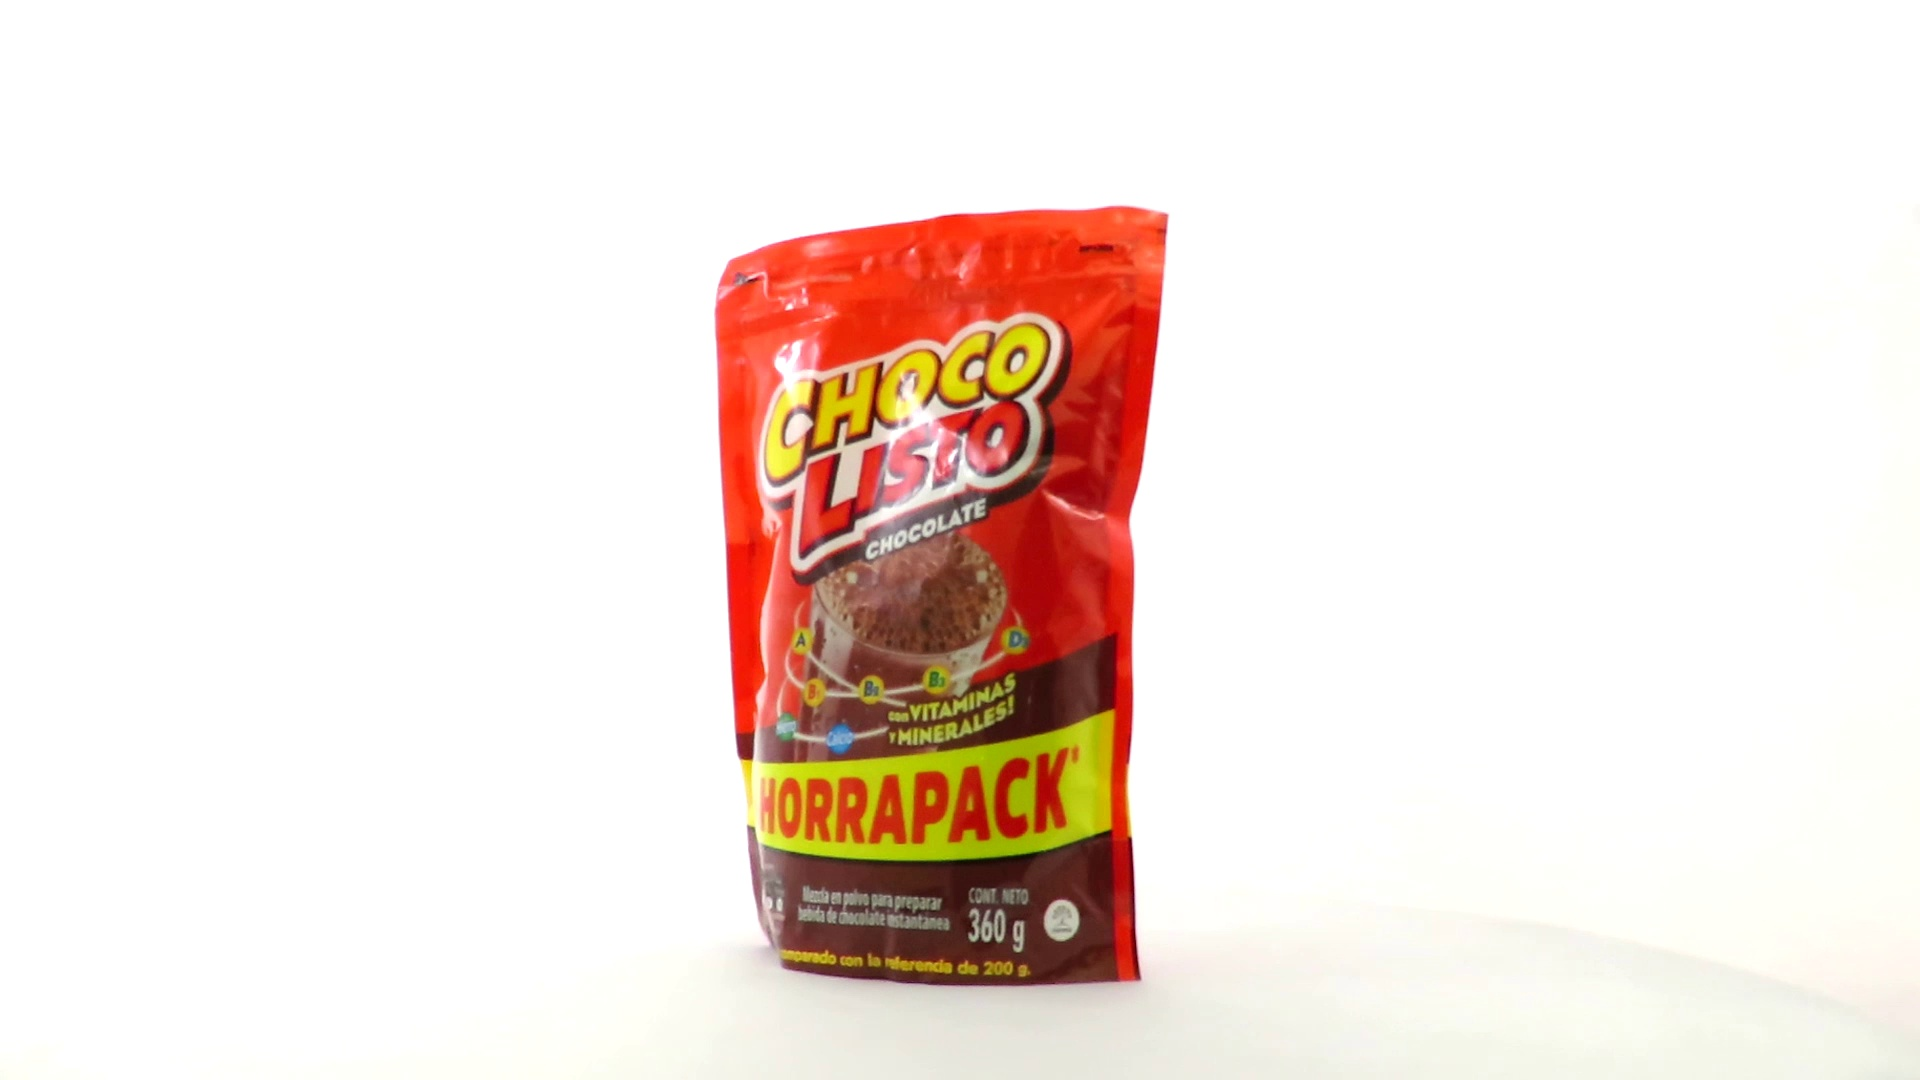COL0170103DYP36000: (709, 200, 1175, 993)
